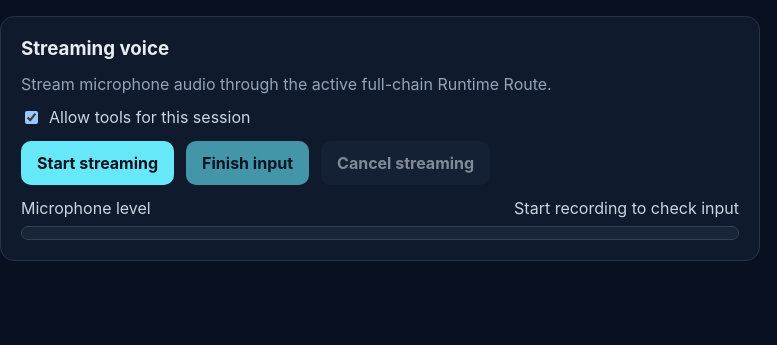
Test: StreamingVoiceControls › cleans up the session when finishing input fails
Click the button "Start streaming": coordinates (98, 163) [21,141,174,185]
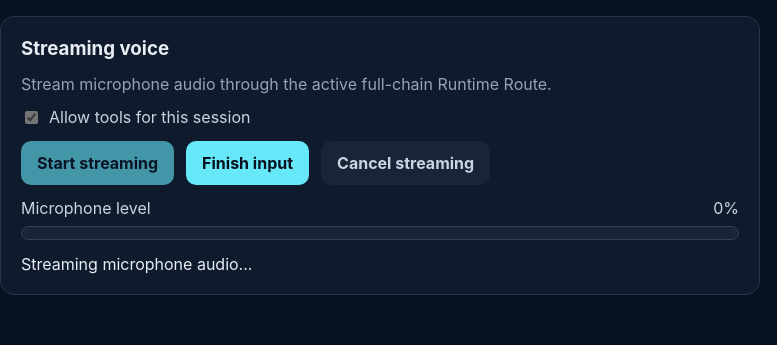
Click the button "Finish input": coordinates (248, 163) [186,141,309,185]
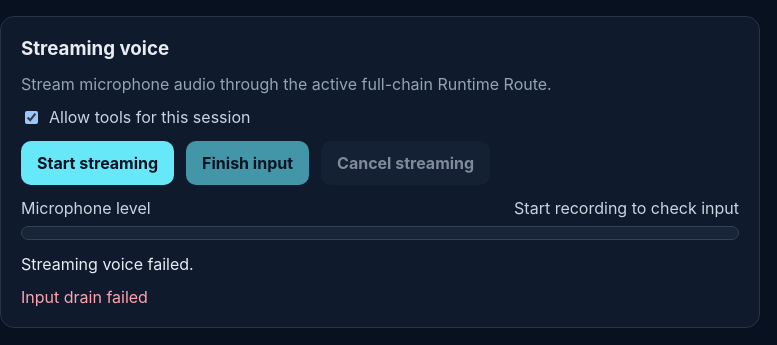
Expected: the message "Input drain failed" is shown, [21,287,148,307]
Expected: the button "Start streaming" is enabled, [21,141,174,185]
Expected: the button "Cancel streaming" is disabled, [321,141,490,185]
